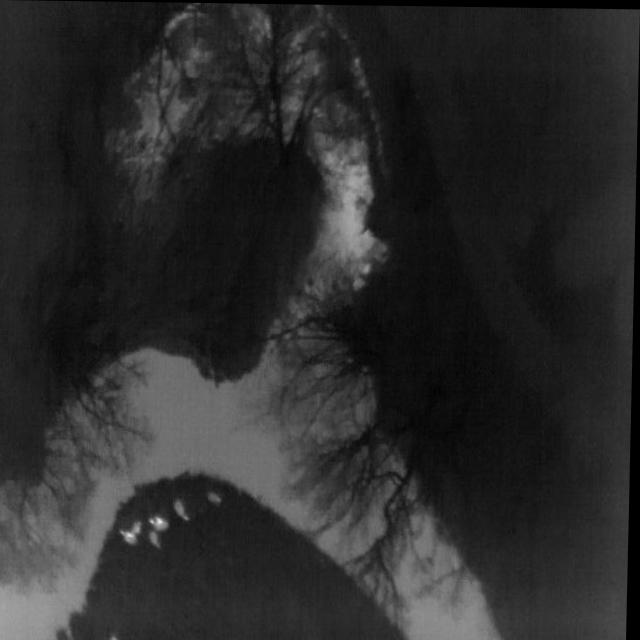deer: (175, 499, 192, 520), (151, 515, 172, 531), (121, 530, 141, 544), (151, 530, 164, 548), (133, 520, 143, 534), (210, 492, 224, 502), (112, 635, 124, 640)
